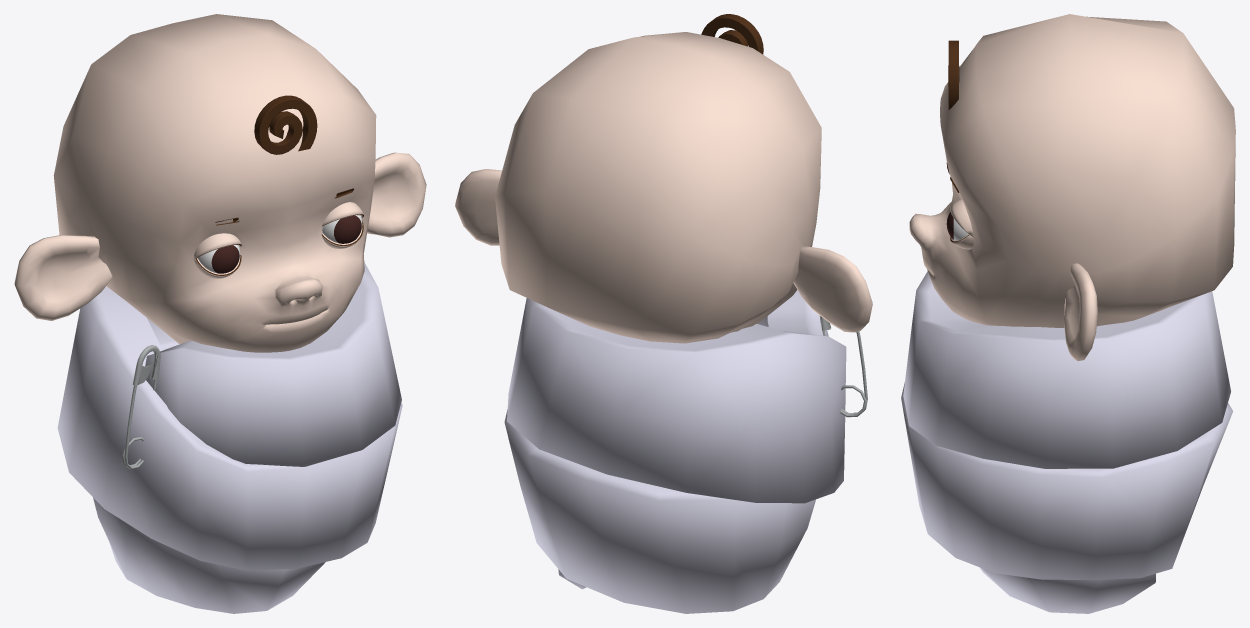
File: baby.fbx
3 renders of one model, left to right at view 1: azimuth 30°, elevation 25°; view 2: azimuth 150°, elevation 25°; view 3: azimuth 270°, elevation 25°, orthographic.
Parts seen in each view (by area): view 1: carlos_mantita; view 2: carlos_mantita; view 3: carlos_mantita.
Part boxes in pixels (box(x1,y1,x2,y2)): carlos_mantita: box(14, 14, 426, 613); carlos_mantita: box(455, 14, 872, 613); carlos_mantita: box(901, 14, 1235, 613).
Bounding box in the file's own units: 33.63 × 42.28 × 23.33.
